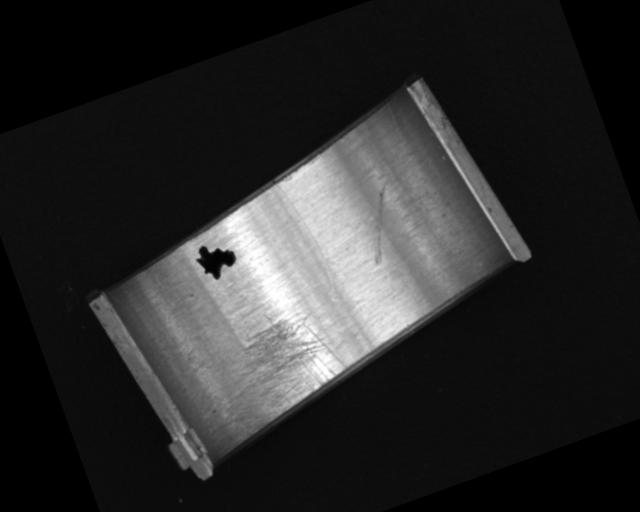blot: (191, 235, 241, 285)
nick: (275, 174, 343, 306), (349, 181, 411, 267)
scratch: (203, 293, 358, 440)
